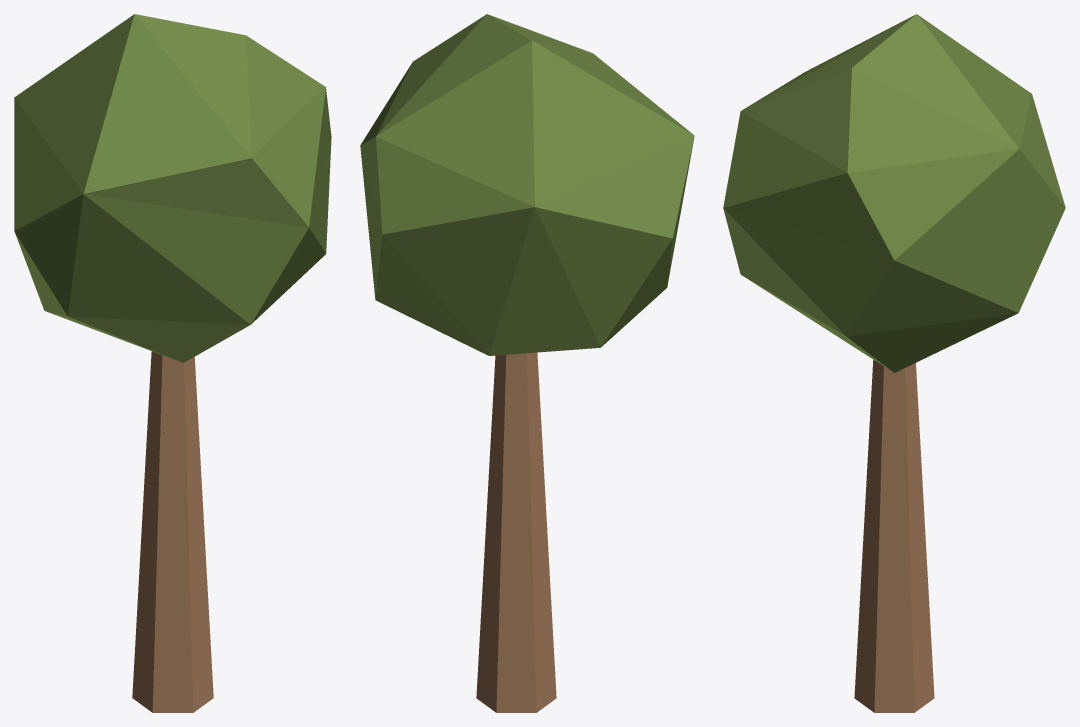
Rendered from Tree1.dae.
3 views of the same model, side by side, from view 1: azimuth 30°, elevation 25°; view 2: azimuth 150°, elevation 25°; view 3: azimuth 270°, elevation 25° (orthographic).
Parts seen in each view (by area): view 1: Icosphere_003; view 2: Icosphere_003; view 3: Icosphere_003.
Boxes of the visible parts, box(x1,y1,x2,y2) form: Icosphere_003: box(14, 14, 331, 712); Icosphere_003: box(360, 14, 694, 712); Icosphere_003: box(723, 14, 1065, 712).
Bounding box in the file's own units: 0.7252 × 0.6897 × 1.49.
